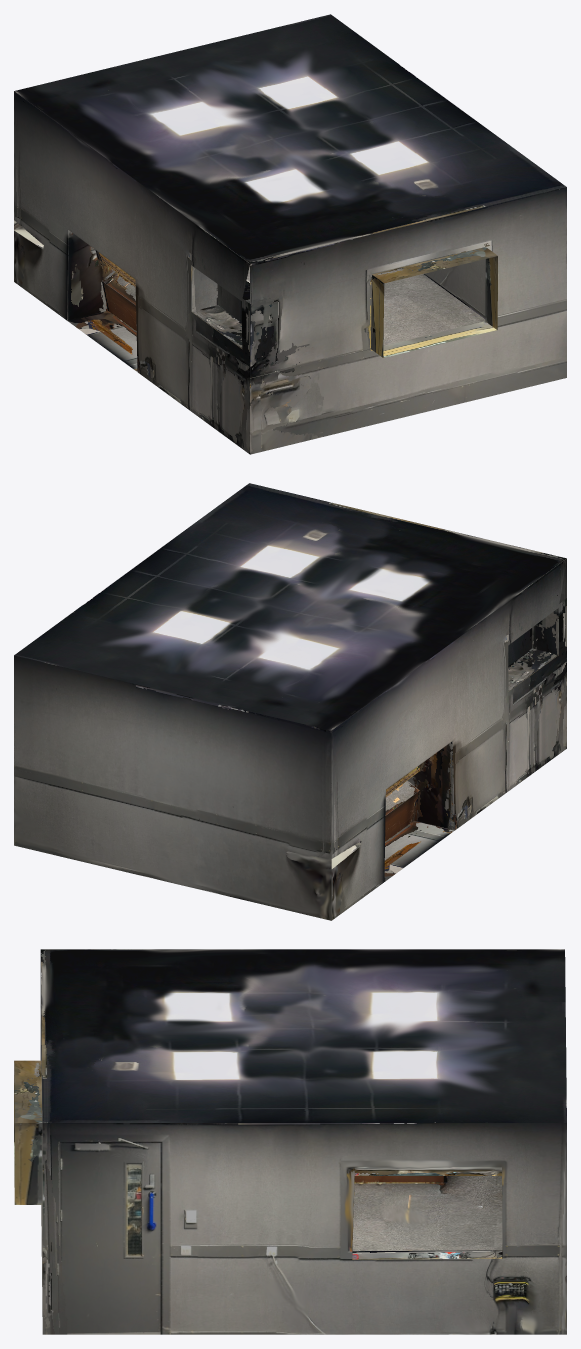
The picture shows the model from 3 angles, top to bottom: view 1: azimuth 30°, elevation 25°; view 2: azimuth 150°, elevation 25°; view 3: azimuth 270°, elevation 25°; orthographic projection. The views are drawn at different scales.
Parts seen in each view (by area): view 1: 1m110 lp; view 2: 1m110 lp; view 3: 1m110 lp.
Boxes of the visible parts, left/top/right/bottom form: 1m110 lp: left=14, top=14, right=566, bottom=454; 1m110 lp: left=14, top=483, right=566, bottom=920; 1m110 lp: left=14, top=949, right=566, bottom=1334.
Bounding box in the file's own units: 380 × 209 × 491.
Materials: 1 (1 with a texture image).
